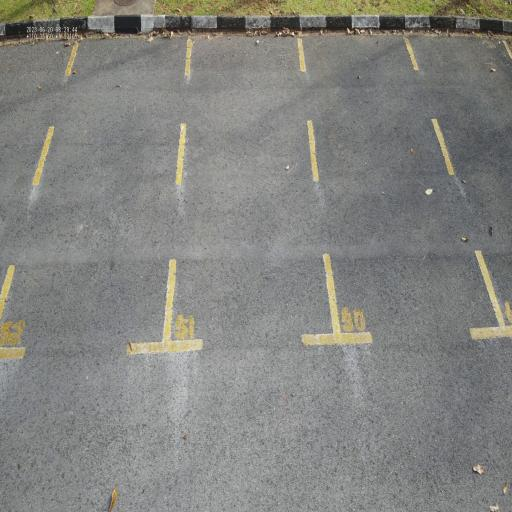Empty: (156, 22, 344, 362)
